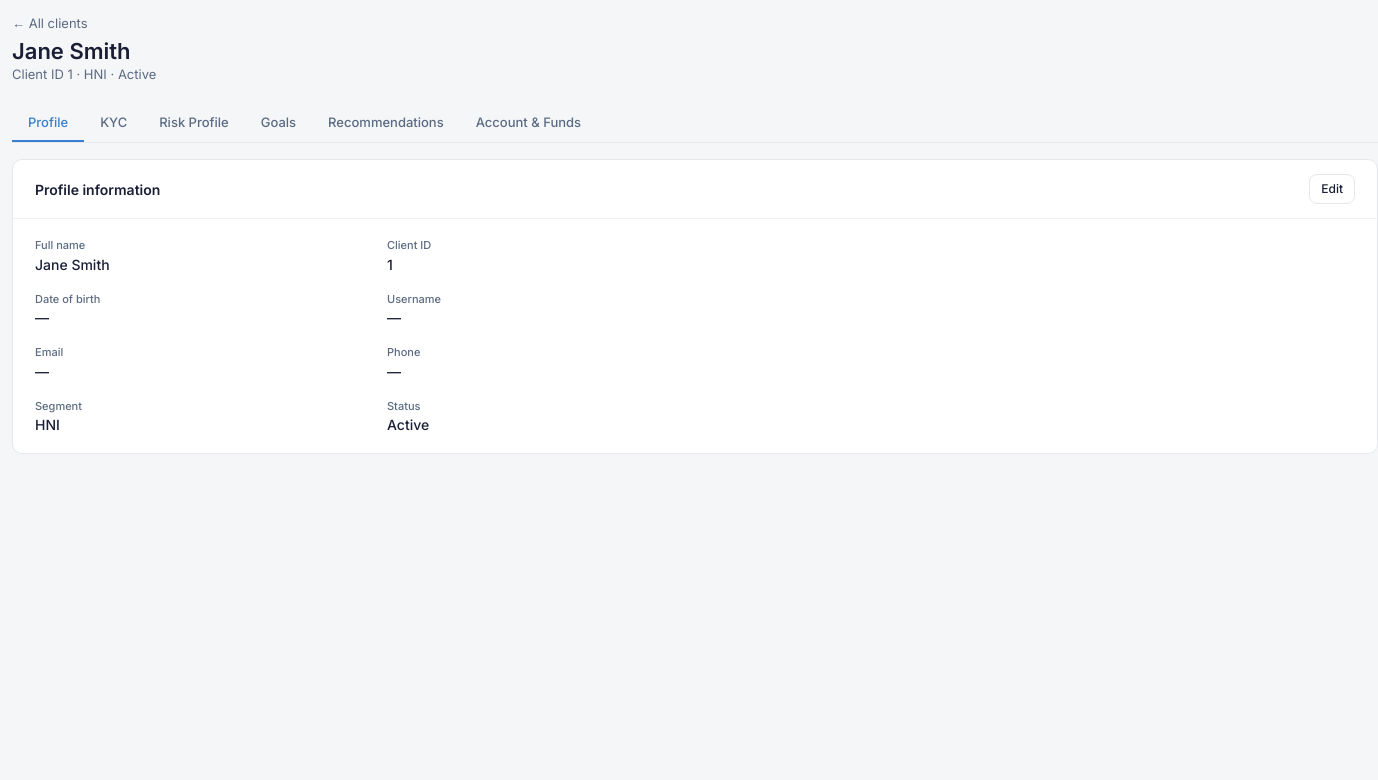
ClientDetail page › Risk Profile tab shows risk class when risk profile exists
What coordinates should you click on to do the following:
click the button "Risk Profile"
I would click on:
 (194, 123)
Its box is [143,104,245,142].
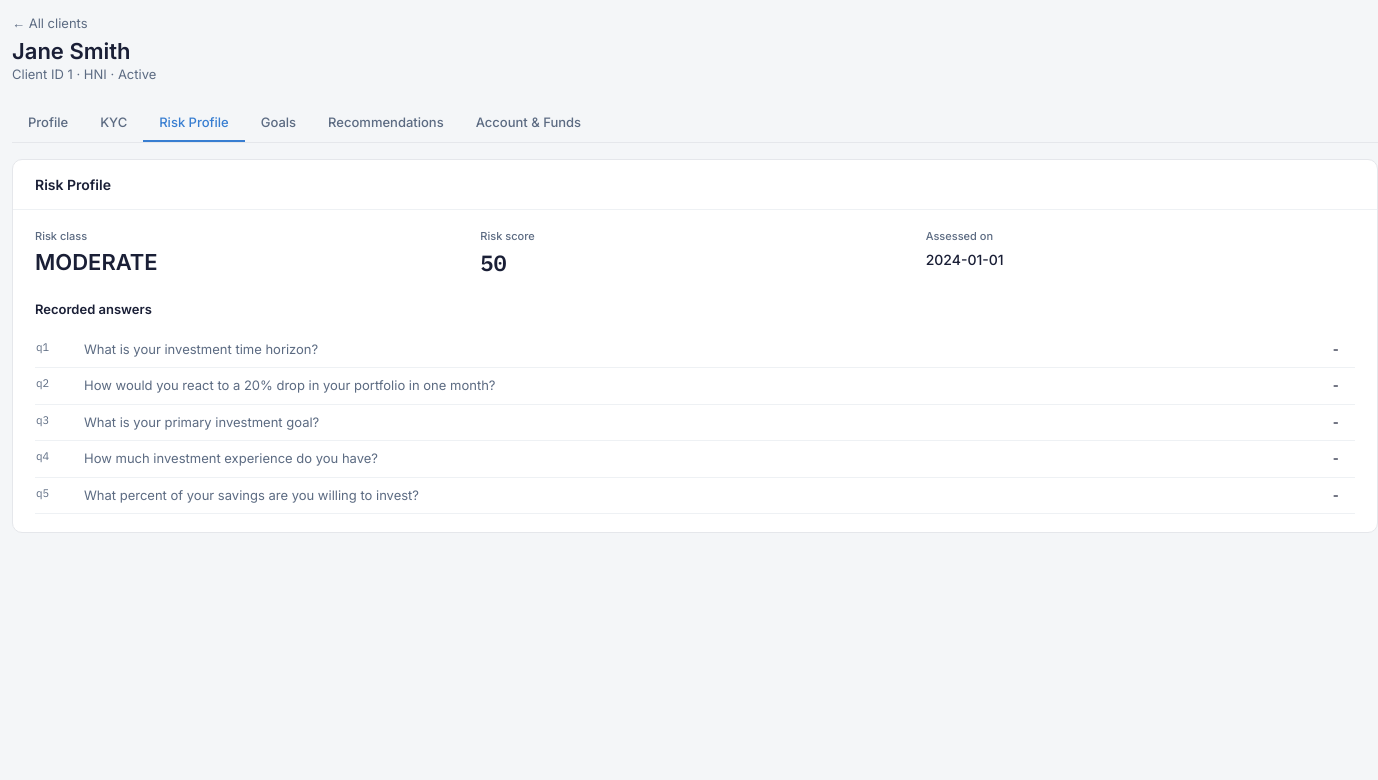
Result: the text "MODERATE" is shown at [35,248,158,274]
